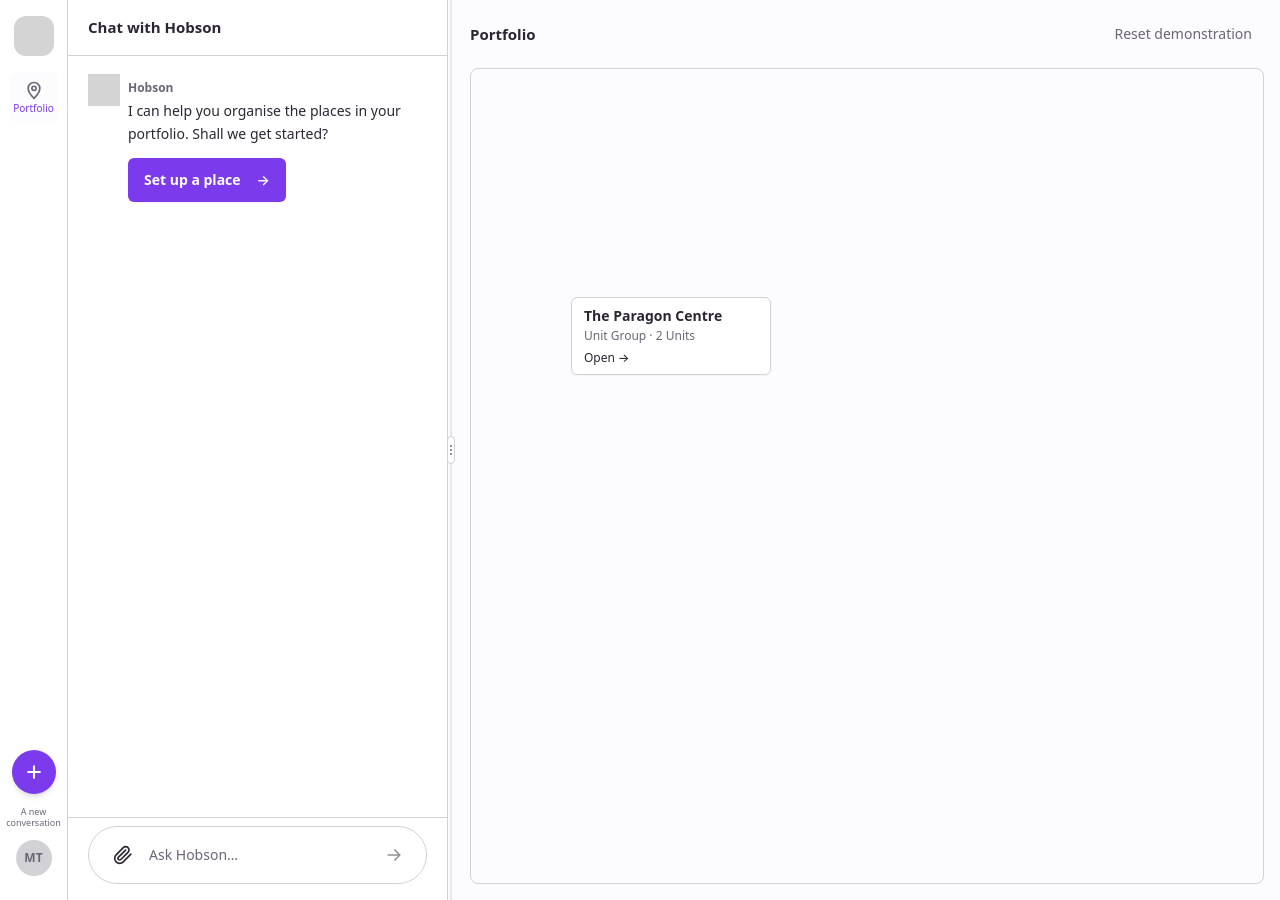
Test: Prototype Unit opening setup › opens the existing Paragon sample from the map, with its own cover, and returns to the map
Check: the button "Set up a place →" is shown, box [128,158,286,202]
Click the button with aria-label "Open The Paragon Centre": (671, 336) [571,297,771,375]
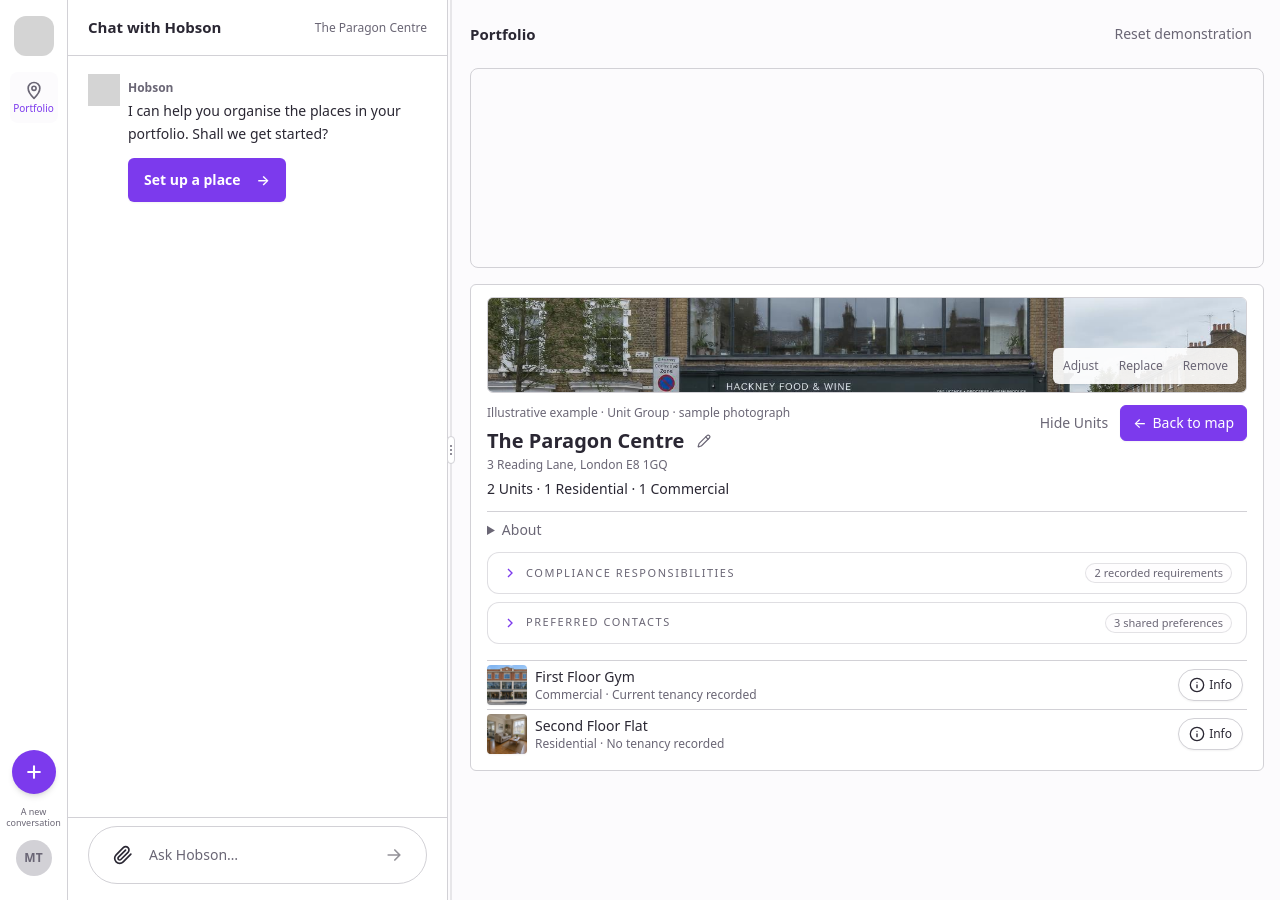
Check: the button with aria-label "Open First Floor Gym" is shown, box [535,660,1174,708]
Click the button "← Back to map": (1184, 423) [1120,405,1247,441]
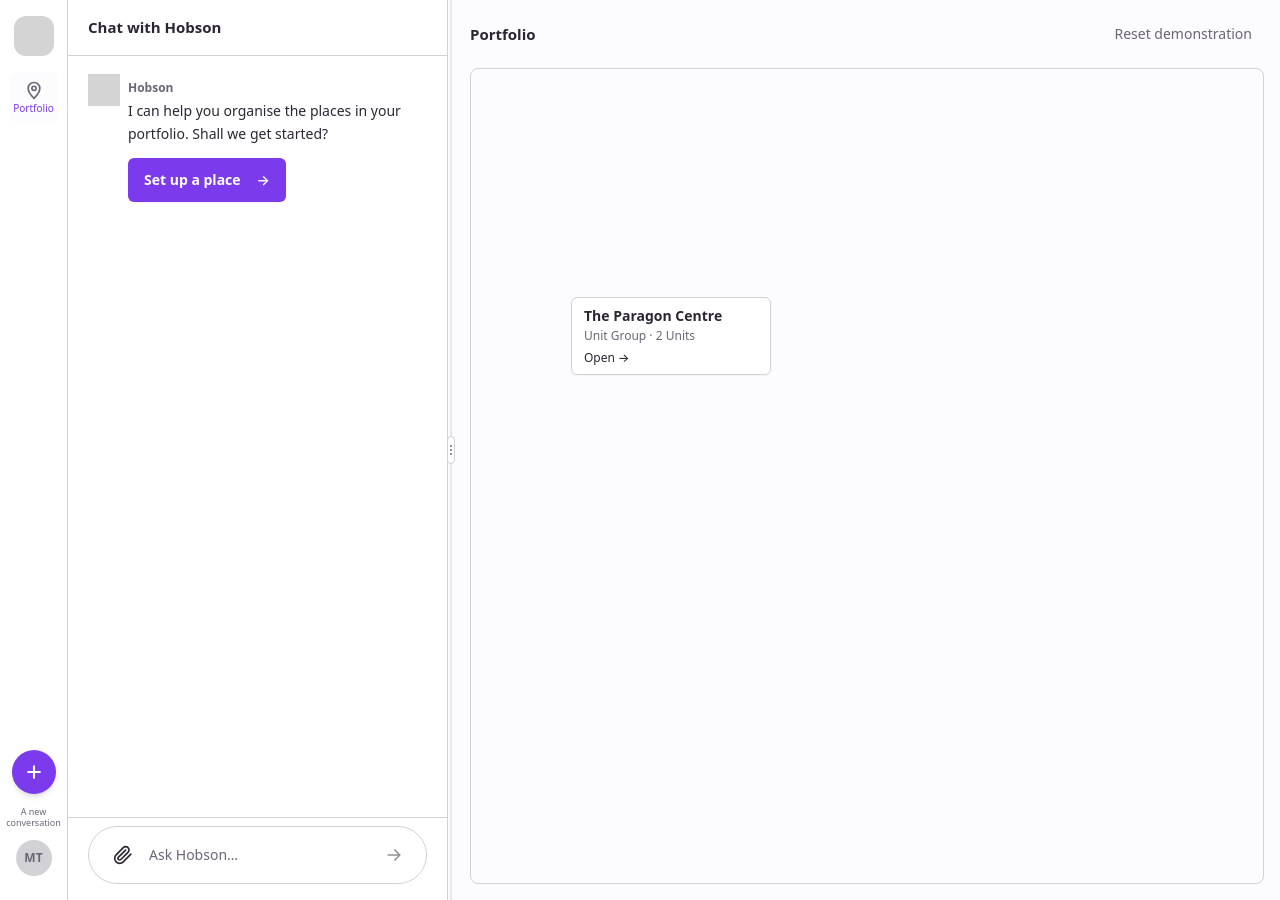
Check: the button with aria-label "Open The Paragon Centre" is shown, box [571,297,771,375]
